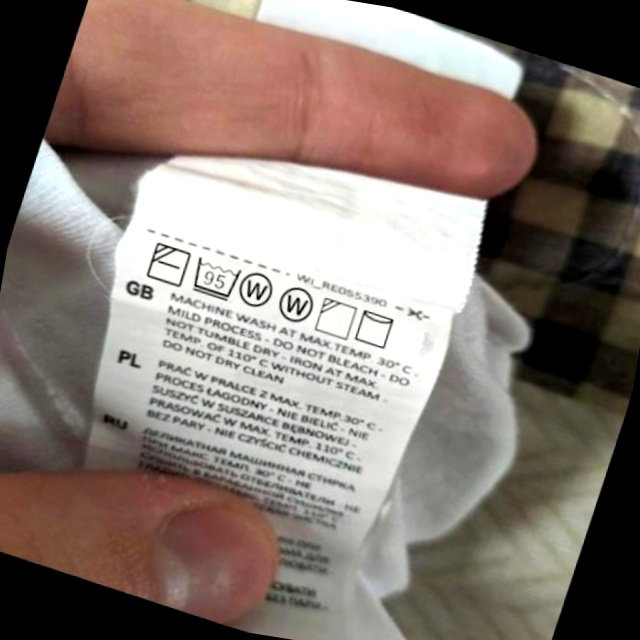95C: (186, 252, 246, 305)
dry_flat_in_shade: (142, 237, 195, 291)
line_dry: (350, 303, 401, 354)
shade_dry: (311, 293, 362, 344)
wet_clean: (272, 280, 321, 331), (234, 264, 282, 315)
